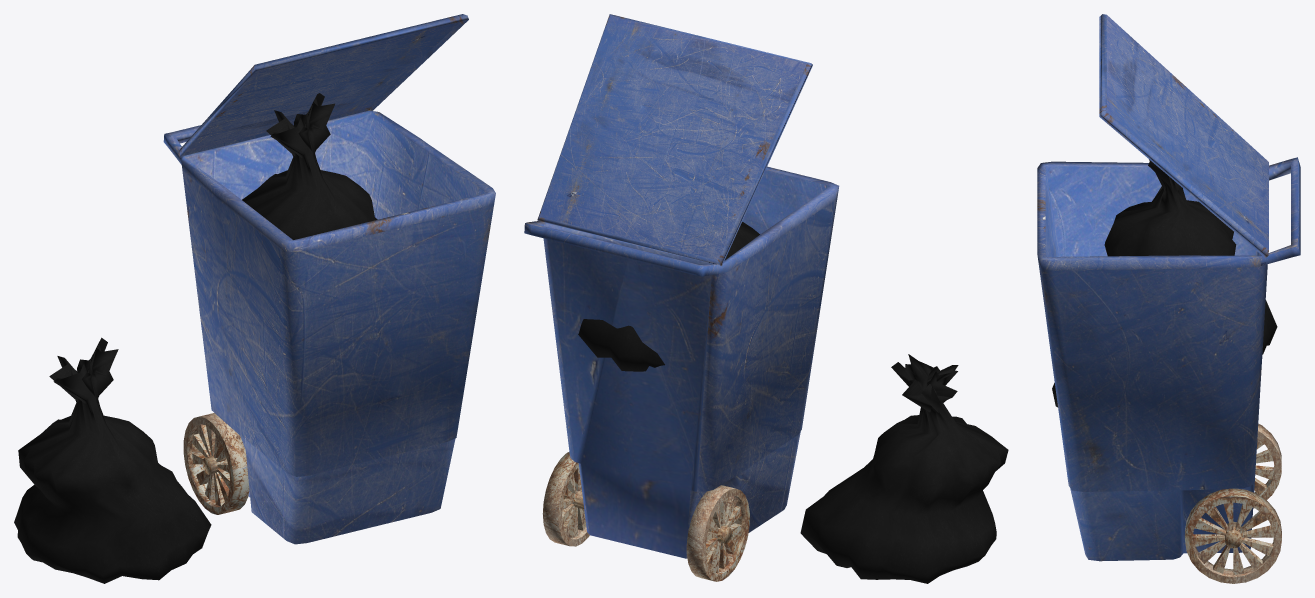
File: garbage.gltf
The picture shows the model from 3 angles, left to right: view 1: azimuth 30°, elevation 25°; view 2: azimuth 150°, elevation 25°; view 3: azimuth 270°, elevation 25°; orthographic projection. The views are drawn at different scales.
Visible parts, largest first — view 1: garbage mesh, BagTrash01_low, tampa, BagTrash01_low.001, Well.001; view 2: garbage mesh, tampa, BagTrash01_low, Well.001, BagTrash01_low.001, Well; view 3: garbage mesh, tampa, BagTrash01_low.001, Well, Well.001.
Boxes of the visible parts, <box> form: garbage mesh: <box>163,109,495,544</box>; BagTrash01_low: <box>14,337,211,583</box>; tampa: <box>178,14,468,157</box>; BagTrash01_low.001: <box>242,93,377,239</box>; Well.001: <box>183,413,249,514</box>; garbage mesh: <box>524,166,839,558</box>; tampa: <box>537,14,812,266</box>; BagTrash01_low: <box>800,354,1008,583</box>; Well.001: <box>686,485,749,581</box>; BagTrash01_low.001: <box>578,222,759,371</box>; Well: <box>542,452,589,546</box>; garbage mesh: <box>1037,157,1300,561</box>; tampa: <box>1099,14,1268,258</box>; BagTrash01_low.001: <box>1104,159,1277,354</box>; Well: <box>1185,488,1281,583</box>; Well.001: <box>1253,423,1281,508</box>.
Size of what is drawn, in the model's own units: 2.13 by 2.4 by 1.19.
3 materials, 3 textured.
